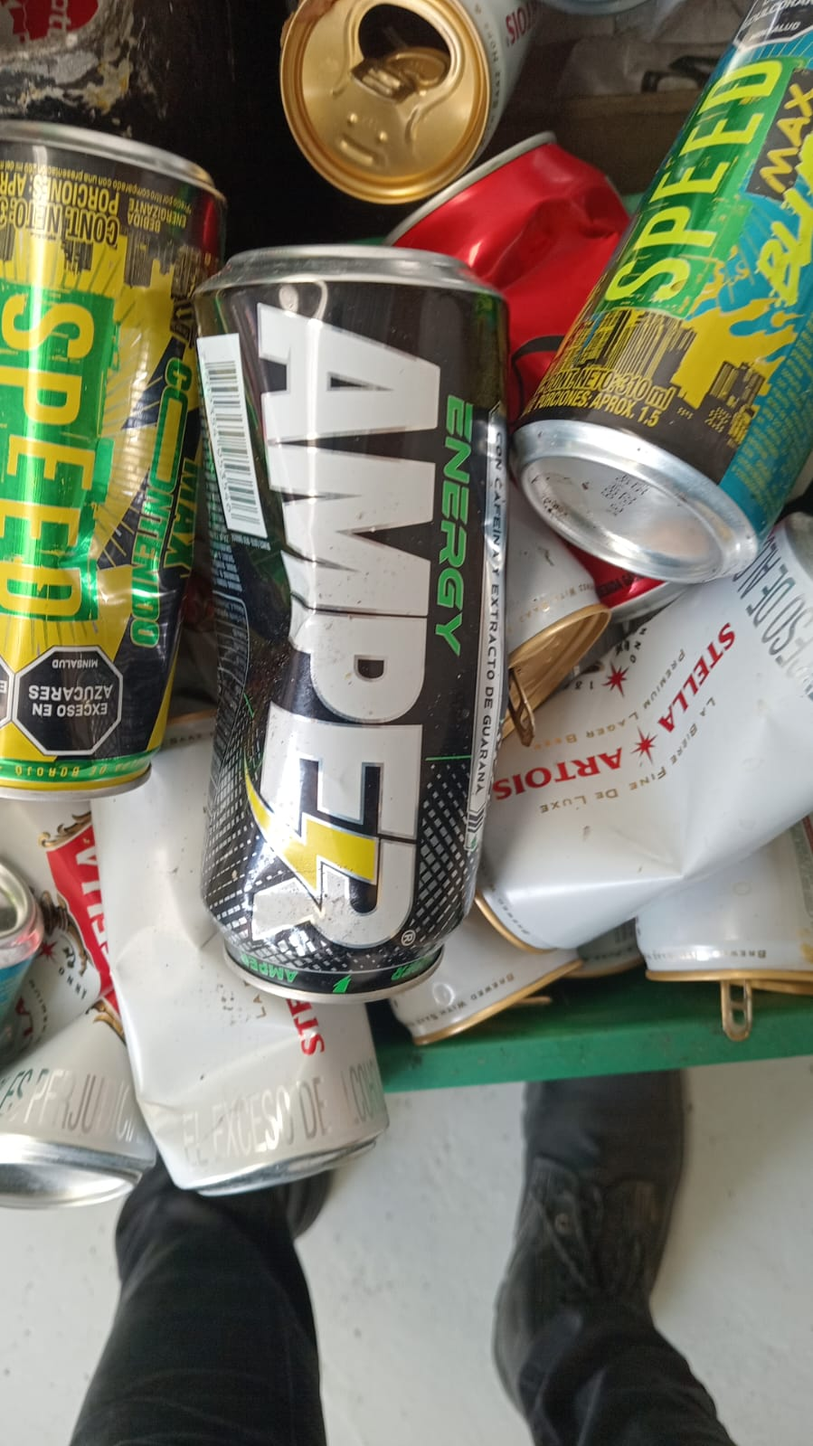Metal: (208, 244, 506, 1006), (518, 0, 813, 575), (0, 127, 226, 795), (484, 543, 813, 940), (95, 793, 409, 1192), (0, 791, 139, 1212), (268, 0, 514, 202)
